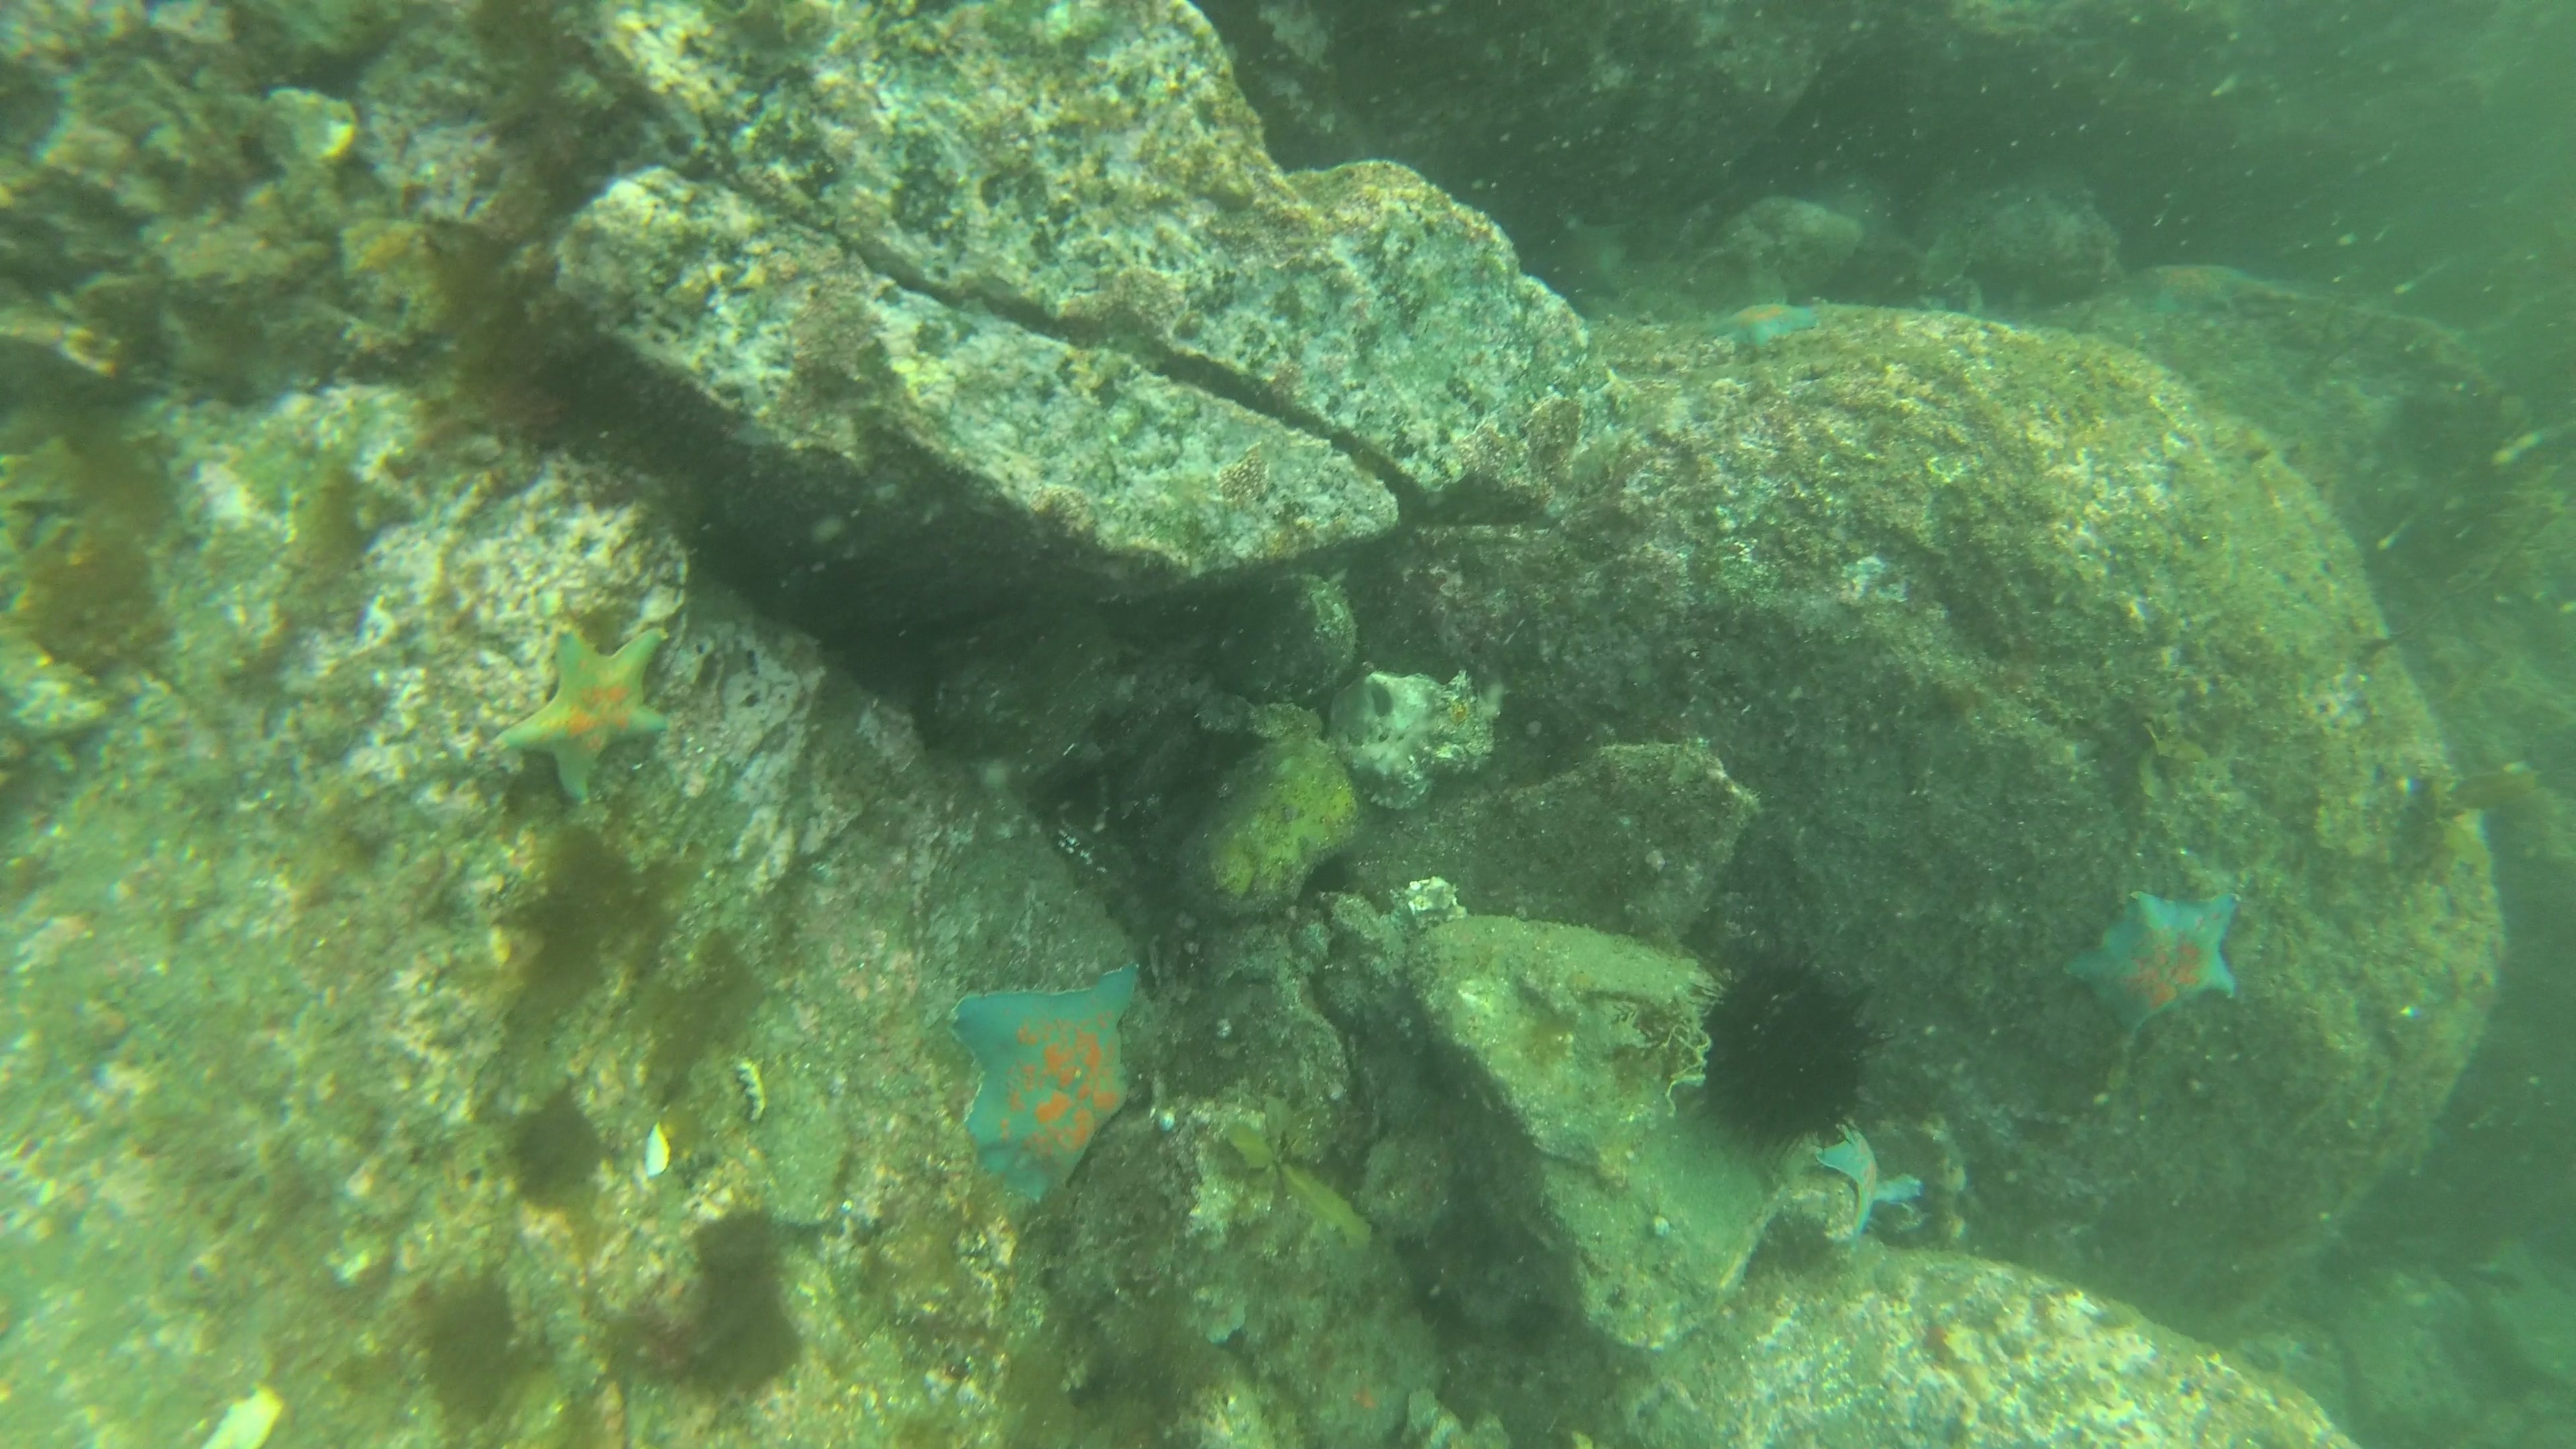echinus: (1679, 947, 1882, 1152), (405, 1265, 541, 1426), (494, 1083, 610, 1210)
starfish: (941, 957, 1154, 1212), (490, 616, 681, 814), (2059, 876, 2254, 1049), (1805, 1116, 1936, 1253), (2123, 251, 2268, 329), (1700, 292, 1829, 361)
